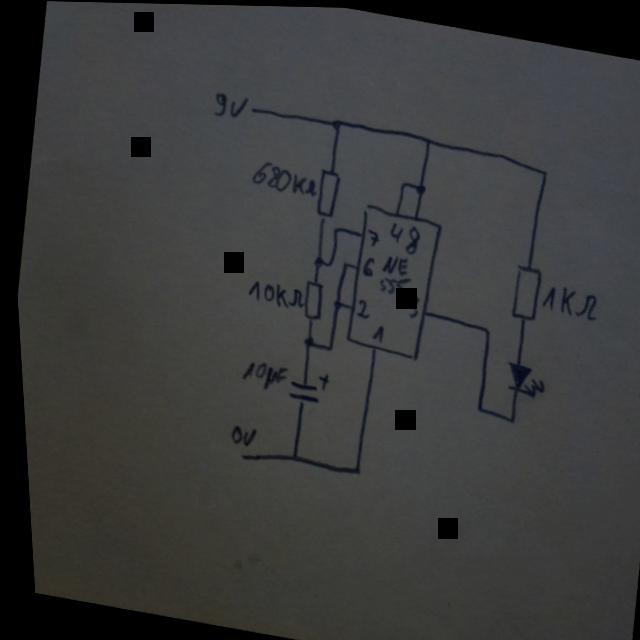capacitor: (281, 366, 326, 408)
diode: (497, 358, 544, 398)
junction: (410, 179, 425, 196), (297, 332, 312, 349), (327, 114, 342, 130), (308, 253, 321, 268), (319, 338, 331, 353), (477, 321, 490, 334), (345, 462, 358, 475), (421, 132, 433, 145), (327, 222, 339, 235), (327, 297, 339, 310), (501, 411, 513, 424), (283, 450, 295, 463), (395, 175, 406, 188), (322, 255, 332, 269), (469, 400, 480, 412), (537, 164, 548, 176), (337, 257, 347, 270)
resistor: (503, 259, 541, 320), (310, 165, 341, 220), (296, 277, 324, 321)
terminal: (232, 448, 243, 461), (248, 103, 255, 114)
text: (246, 156, 318, 198), (535, 279, 597, 320), (242, 276, 303, 310), (233, 356, 286, 392), (372, 250, 412, 295), (209, 89, 249, 120), (222, 421, 253, 448), (398, 220, 420, 255), (383, 218, 403, 244), (401, 290, 418, 319), (350, 294, 369, 318), (356, 252, 374, 277), (361, 225, 379, 246), (365, 321, 382, 343)
